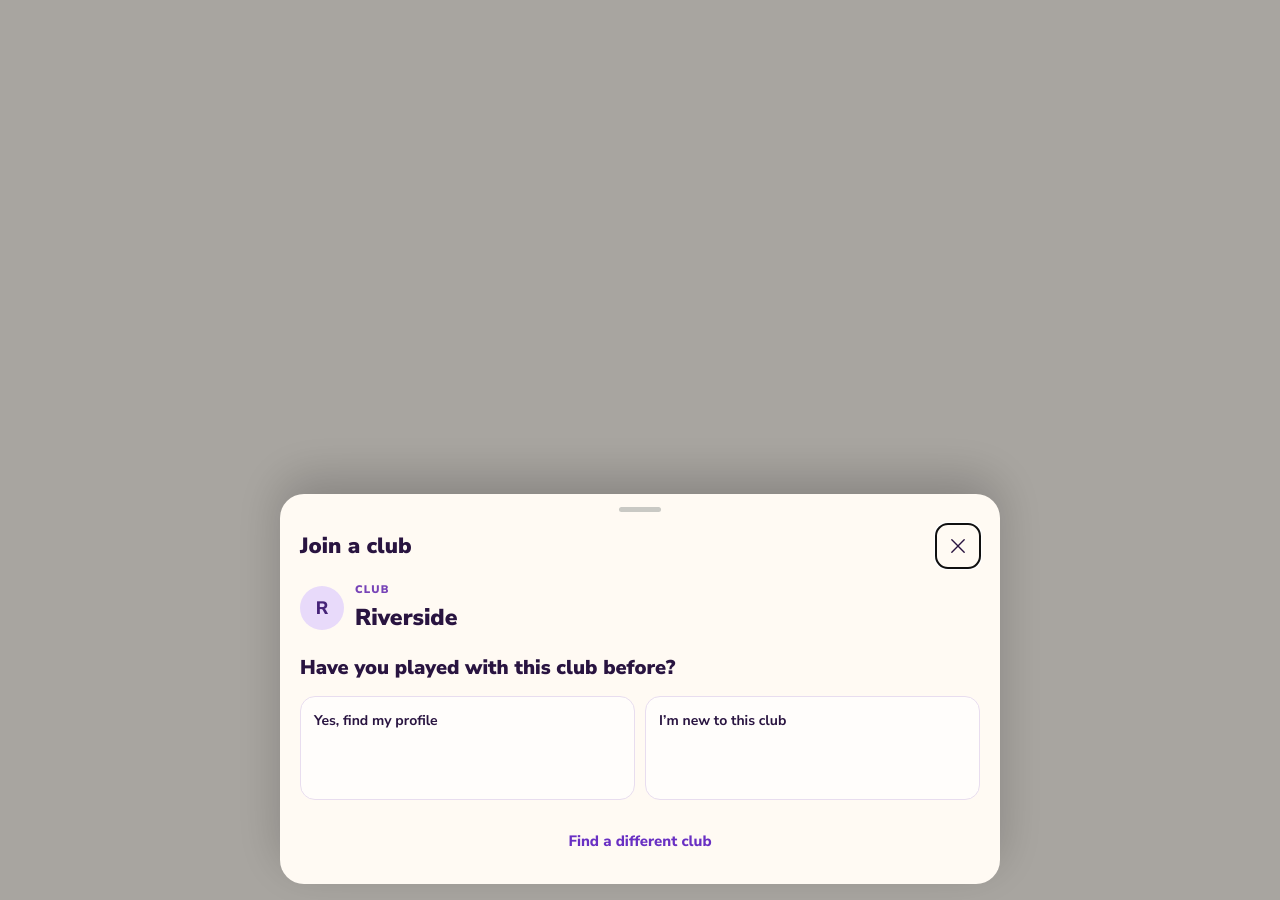
Scenario: JoinClubAdmission › returns to the code prompt when a verified entry expires during submission
Click the button "I’m new to this club" at point(723, 720), box [645, 696, 980, 800]
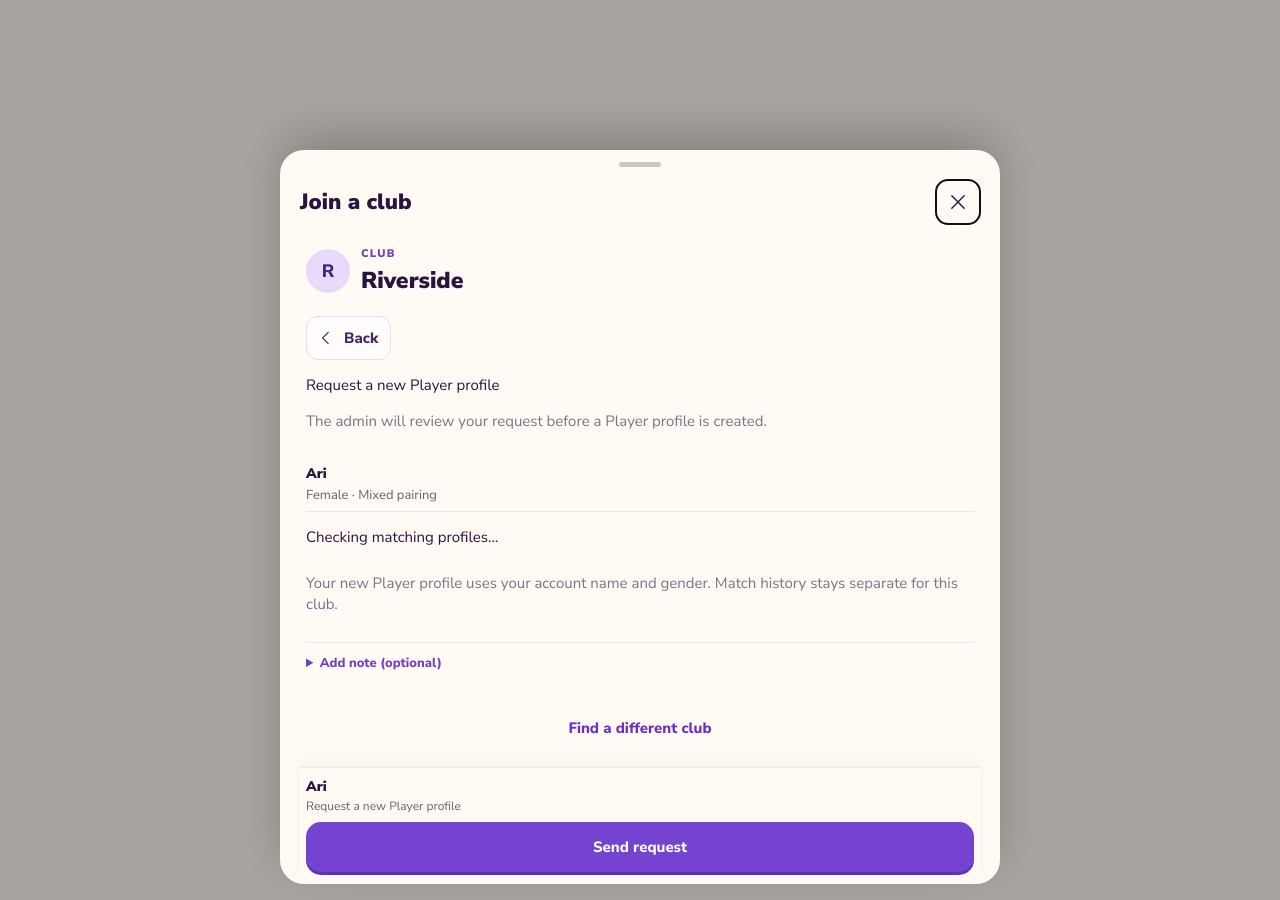
Click the button "Send request" at point(640, 847), box [306, 822, 974, 872]
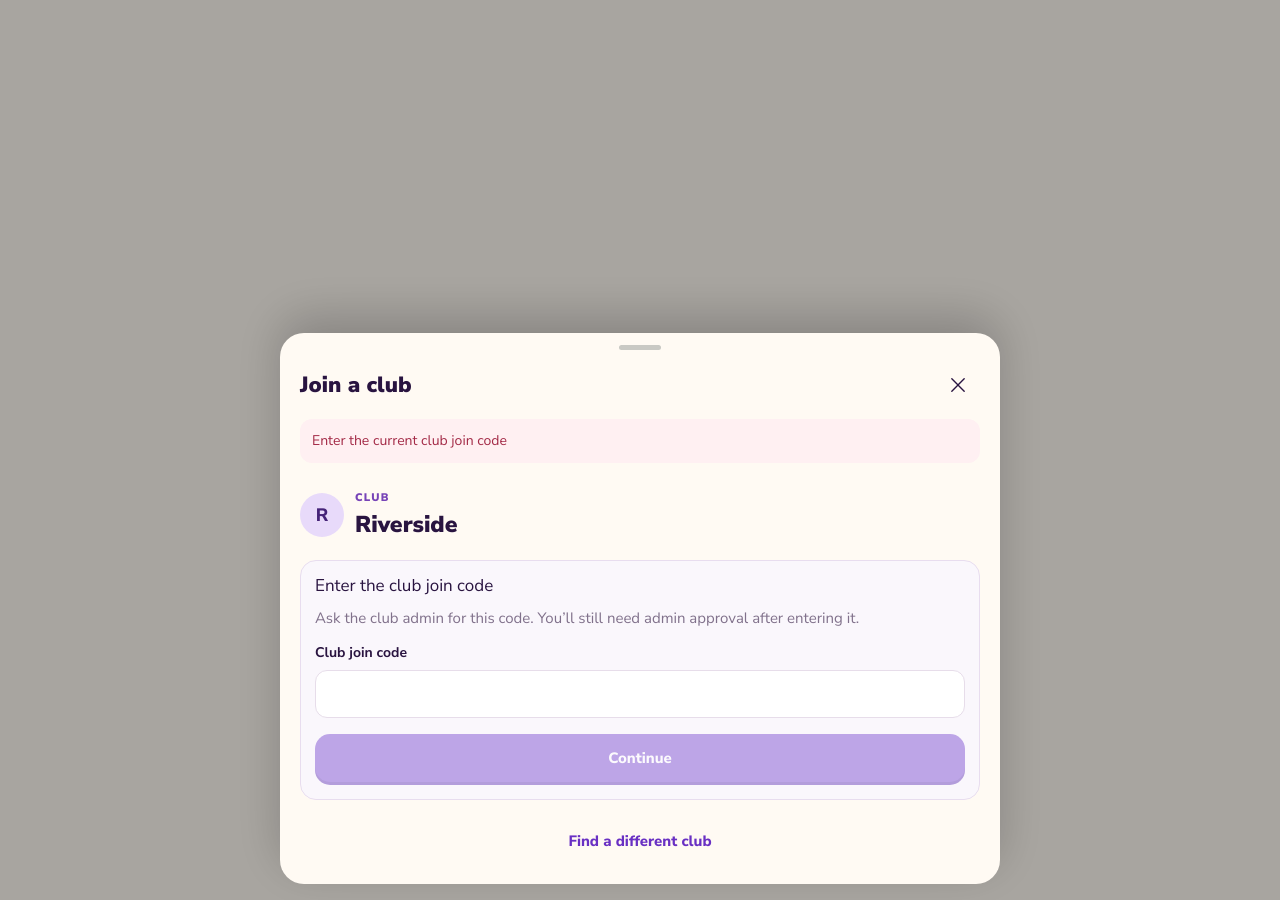
Expected: the text "Have you played with this club before?" is not shown
Expected: the text "Enter the club join code" is shown, [315, 574, 493, 597]
